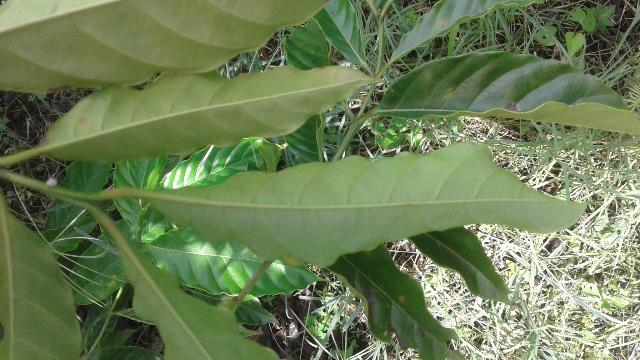healthy: (148, 141, 595, 268)
